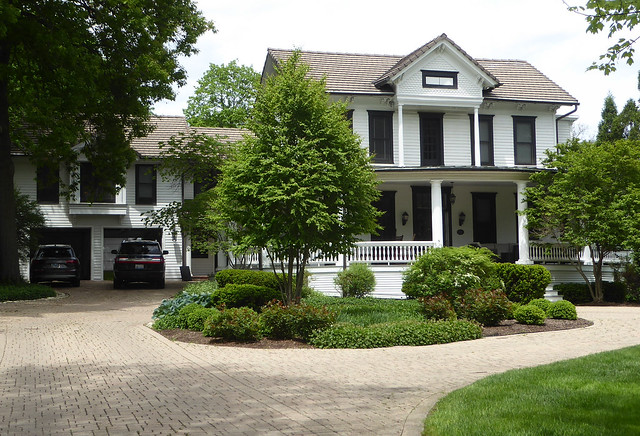low: (254, 32, 590, 298), (13, 103, 258, 284)
